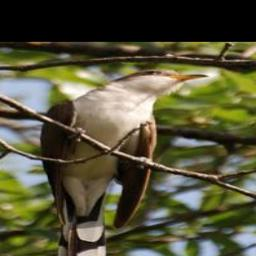Cuckoo: (36, 68, 211, 256)
